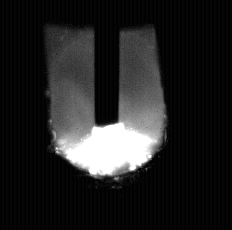arame: (95, 0, 120, 128)
poca: (56, 0, 162, 230)
